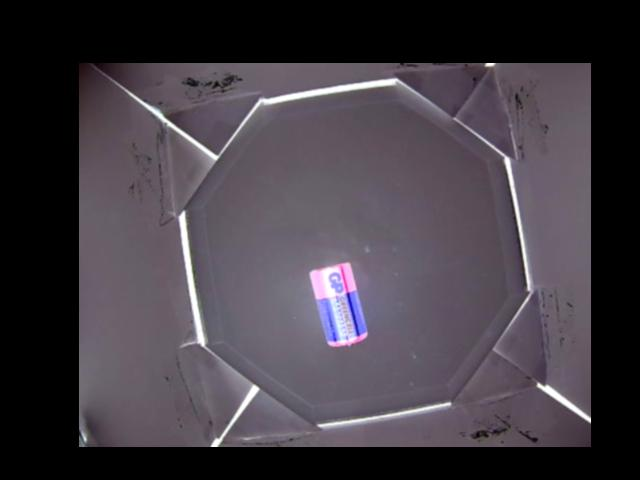Battery: (309, 260, 368, 347)
